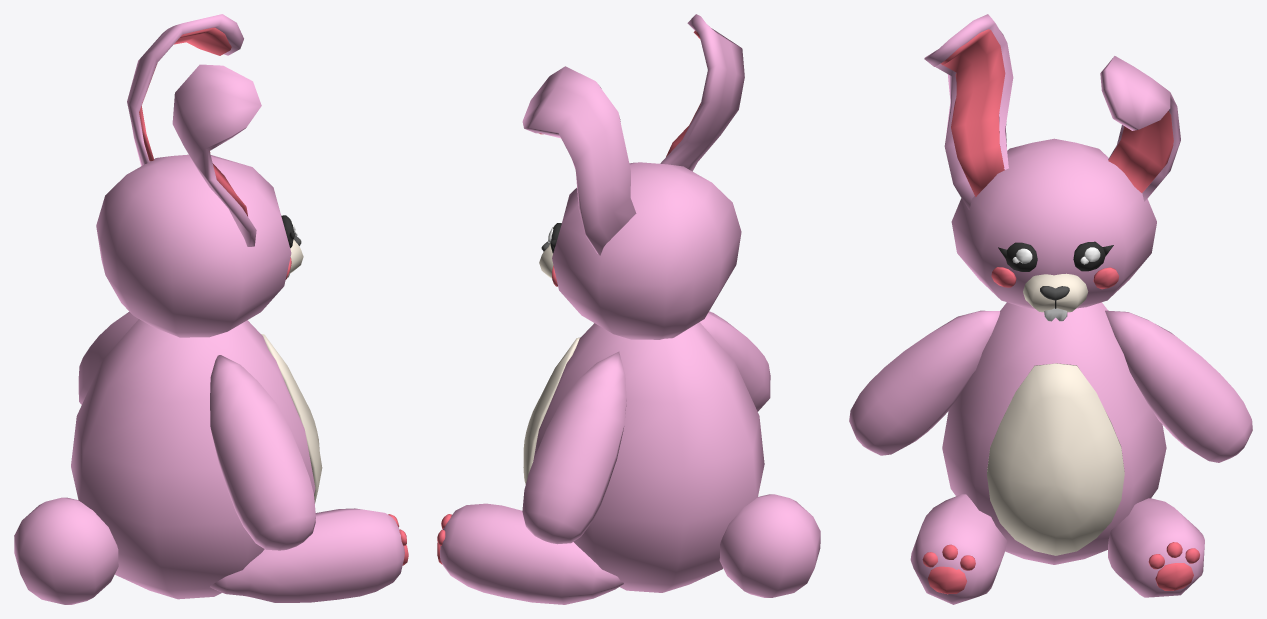
The model's file is pink bunny plush.fbx.
The picture shows the model from 3 angles, left to right: view 1: azimuth 30°, elevation 25°; view 2: azimuth 150°, elevation 25°; view 3: azimuth 270°, elevation 25°; orthographic projection. The views are drawn at different scales.
Visible parts, largest first — view 1: pSphere20.034; view 2: pSphere20.034; view 3: pSphere20.034.
Part boxes in pixels (x1,y1,x2,y2): pSphere20.034: [14, 14, 408, 604]; pSphere20.034: [437, 14, 820, 604]; pSphere20.034: [849, 14, 1252, 604].
Size of the model in its own units: 66.93 by 108 by 75.11.
